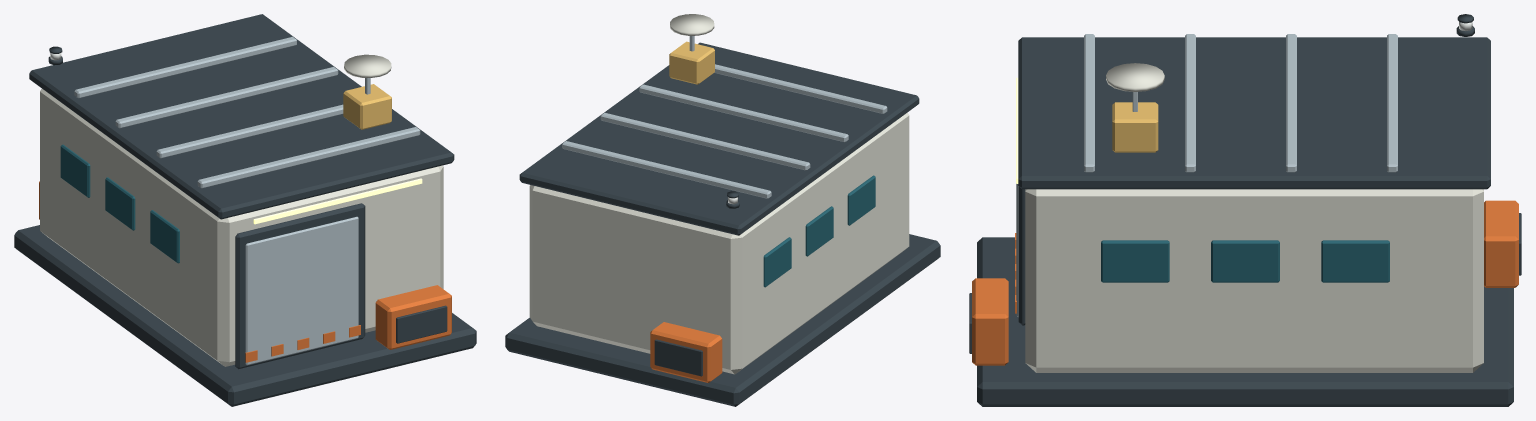
The model's file is assembler.glb.
3 views of the same model, side by side, from view 1: azimuth 30°, elevation 25°; view 2: azimuth 150°, elevation 25°; view 3: azimuth 270°, elevation 25° (orthographic). The views are drawn at different scales.
Parts seen in each view (by area): view 1: assembler_dark, assembler_ivory, assembler_metal, assembler_orange, assembler_glass, assembler_gold, assembler_light; view 2: assembler_dark, assembler_ivory, assembler_metal, assembler_glass, assembler_orange, assembler_gold; view 3: assembler_dark, assembler_ivory, assembler_glass, assembler_metal, assembler_orange, assembler_gold.
Part boxes in pixels (left/top/right/bottom): assembler_dark: left=14, top=14, right=476, bottom=406; assembler_ivory: left=40, top=54, right=443, bottom=366; assembler_metal: left=74, top=36, right=420, bottom=365; assembler_orange: left=39, top=181, right=451, bottom=362; assembler_glass: left=60, top=144, right=179, bottom=263; assembler_gold: left=343, top=84, right=391, bottom=129; assembler_light: left=253, top=178, right=422, bottom=224; assembler_dark: left=505, top=42, right=940, bottom=406; assembler_ivory: left=529, top=14, right=909, bottom=374; assembler_metal: left=562, top=36, right=887, bottom=198; assembler_glass: left=763, top=175, right=875, bottom=287; assembler_orange: left=650, top=322, right=722, bottom=382; assembler_gold: left=669, top=41, right=714, bottom=84; assembler_dark: left=969, top=14, right=1521, bottom=406; assembler_ivory: left=1025, top=63, right=1483, bottom=372; assembler_glass: left=1101, top=240, right=1389, bottom=282; assembler_metal: left=1016, top=34, right=1397, bottom=317; assembler_orange: left=972, top=200, right=1518, bottom=365; assembler_gold: left=1112, top=102, right=1158, bottom=152.
Size of the model in its own units: 3.85 by 3.68 by 6.02.
